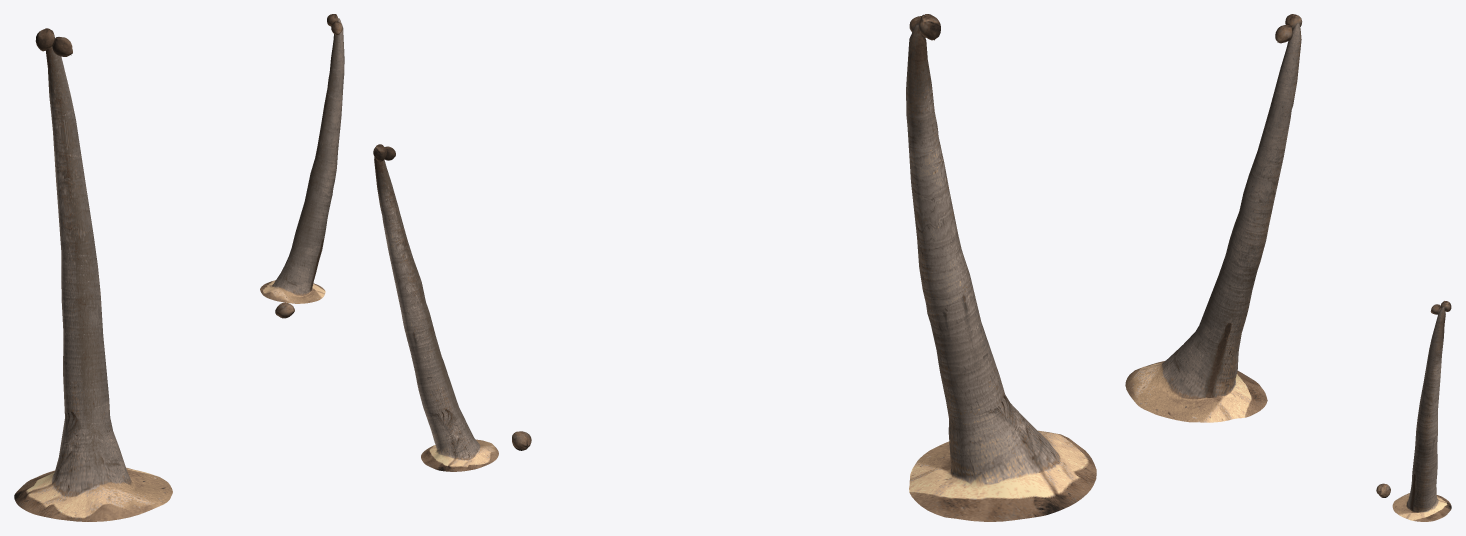
The model's file is palm.obj.
3 renders of one model, left to right at view 1: azimuth 30°, elevation 25°; view 2: azimuth 150°, elevation 25°; view 3: azimuth 270°, elevation 25°, orthographic. The views are drawn at different scales.
Parts seen in each view (by area): view 1: Object_68; view 2: Object_68; view 3: Object_68.
Boxes of the visible parts, bbox=[...] form: Object_68: bbox=[14, 14, 344, 521]; Object_68: bbox=[373, 14, 1096, 521]; Object_68: bbox=[1125, 14, 1451, 521].
Size of the model in its own units: 38.68 by 34.87 by 26.7.
Materials: 1 (1 with a texture image).
